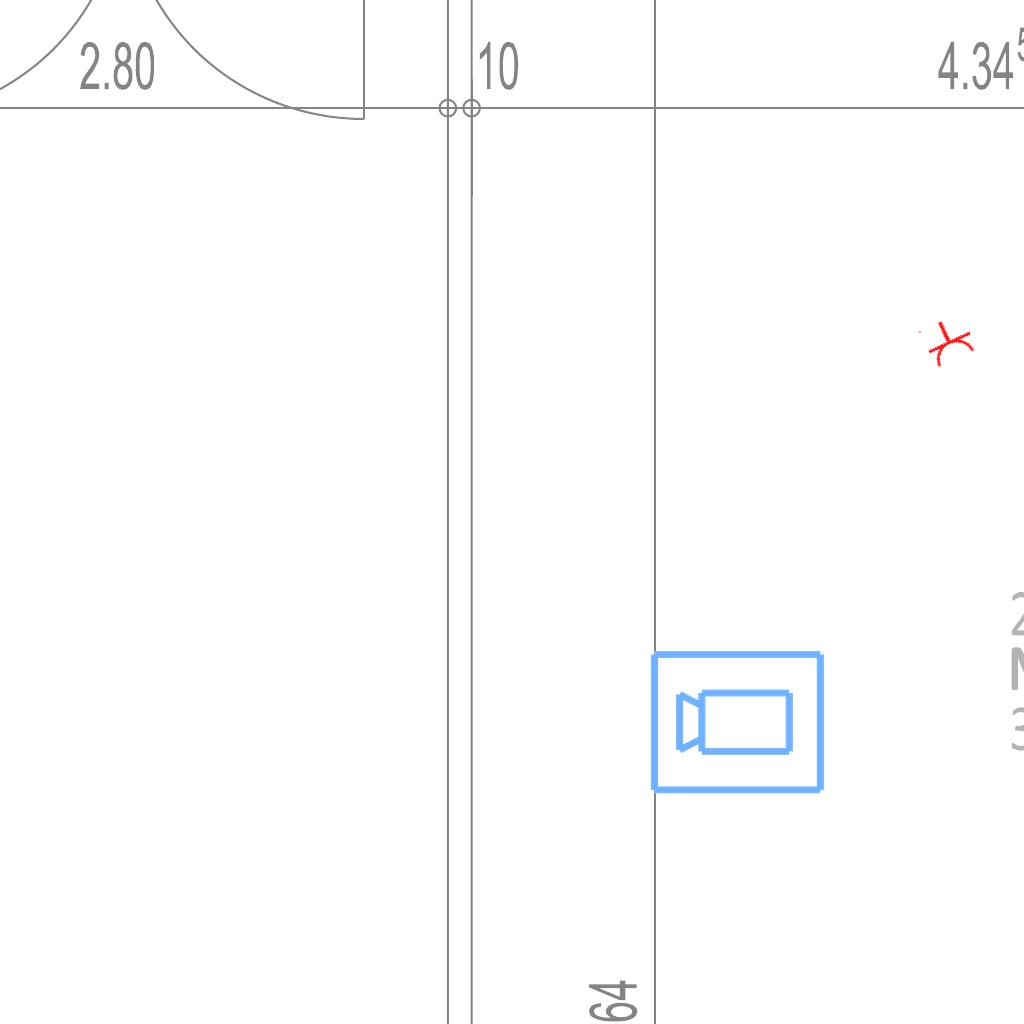KFO_Kamera_mit_Festobjektiv: (647, 644, 829, 798)
Schukosteckdose_einfach: (915, 310, 980, 372)
